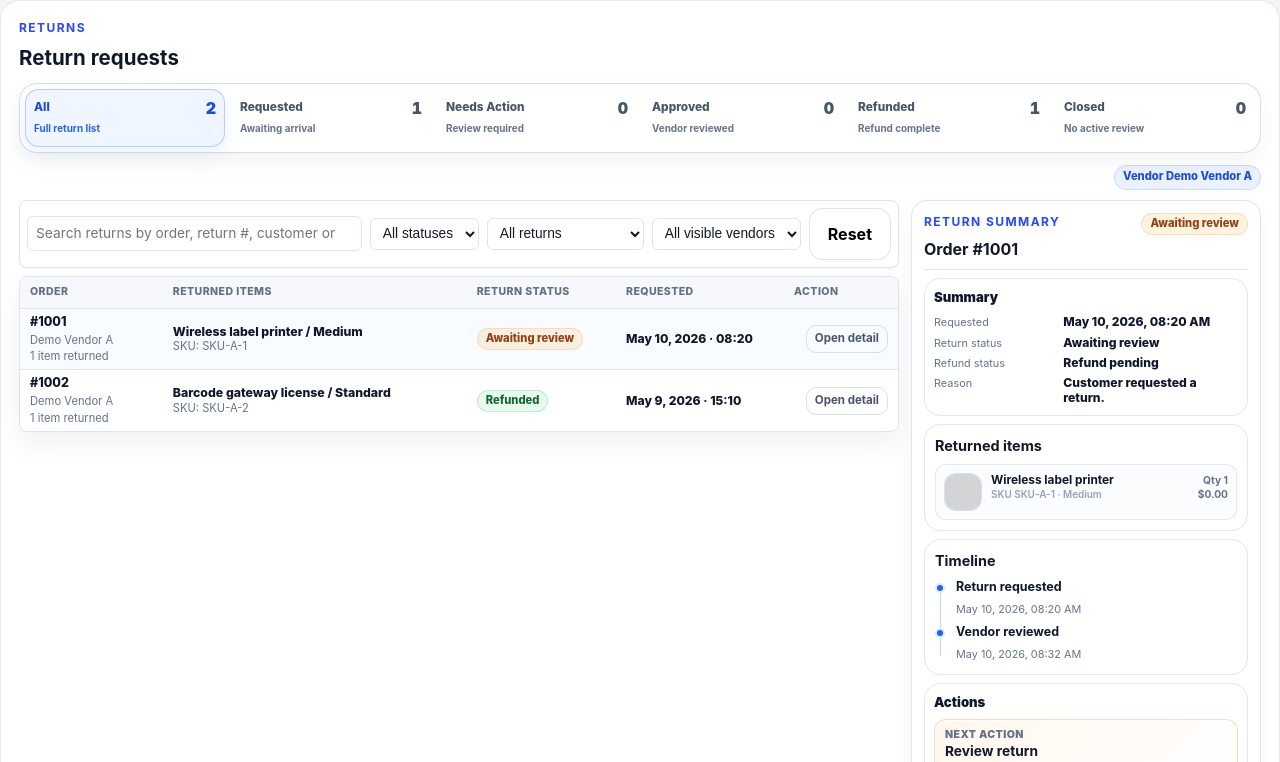
it: ReturnsPage control center › renders selected drawer item details from the scoped return detail endpoint
Expected: the text "Wireless label printer" is shown, x1=991 y1=473 x2=1114 y2=487
What coordinates should you click on to do the following:
click the text "#1002"
I would click on:
 (49, 383)
Its box is x1=30 y1=375 x2=69 y2=390.
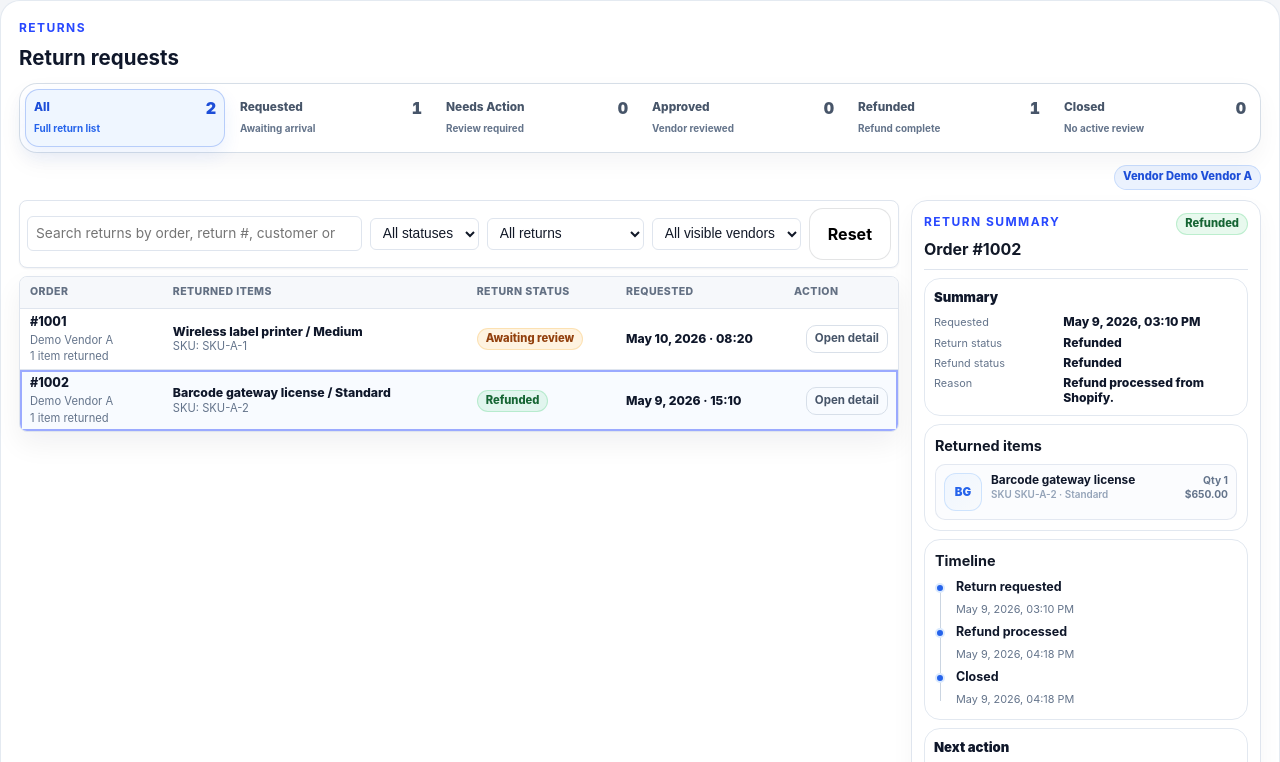
Expected: the text "Barcode gateway license / Standard" is shown, x1=173 y1=386 x2=391 y2=400
Expected: the text "Barcode gateway license" is shown, x1=991 y1=473 x2=1135 y2=487
